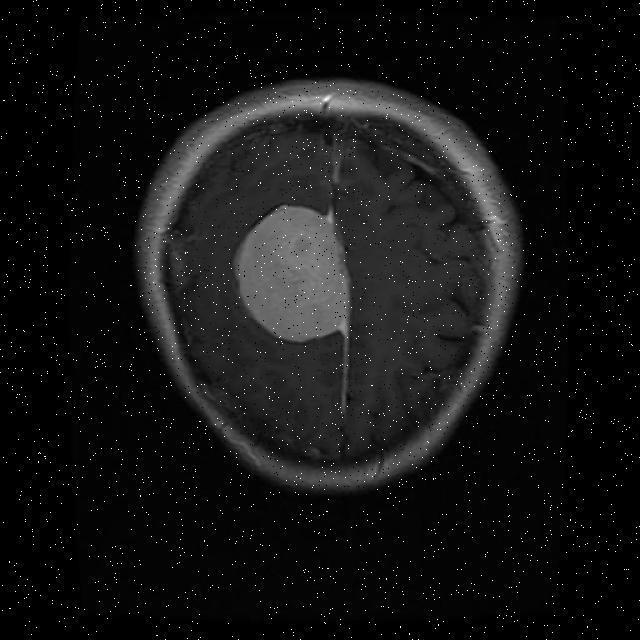Meningioma: (235, 206, 348, 342)
